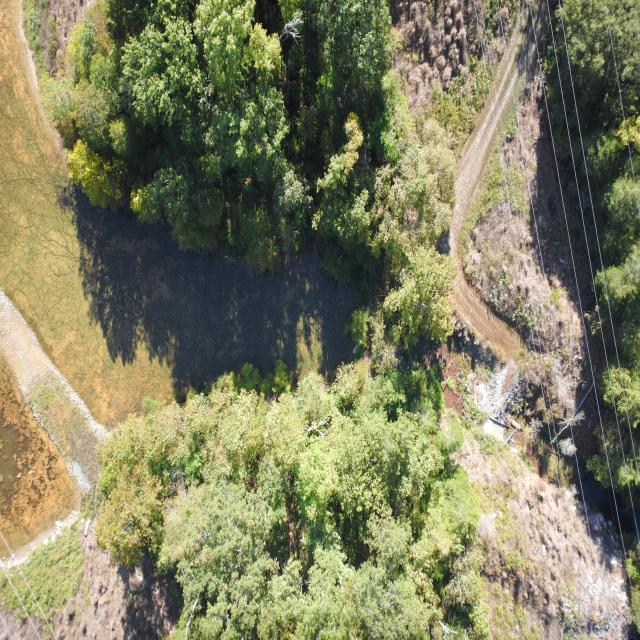Area of Interest: (117, 280, 471, 632), (69, 0, 389, 264), (552, 0, 636, 553)
